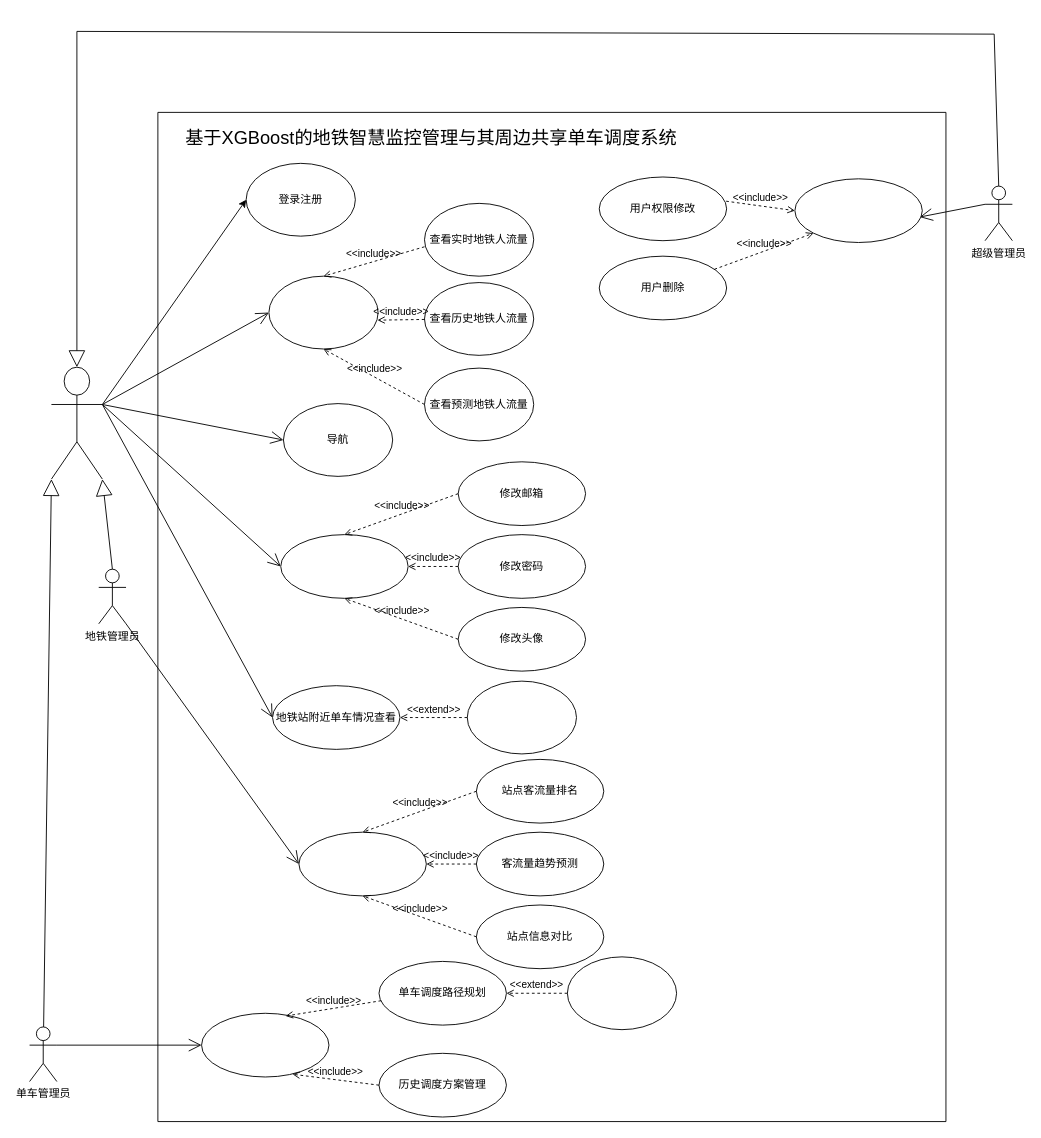
This 1041x1138 diagram has some shape labels left out. The shapes that lost their labels are listed below. From the top down, each one's centre as x and y in pixels, then its label:
At point 858,210: "用户管理".
At point 323,312: "查看地铁人流量".
At point 76,422: "普通用户".
At point 344,566: "个人信息管理".
At point 521,717: "单车调度预警".
At point 362,863: "数据分析".
At point 621,993: "大模型路径规划".
At point 265,1044: "单车调度".
